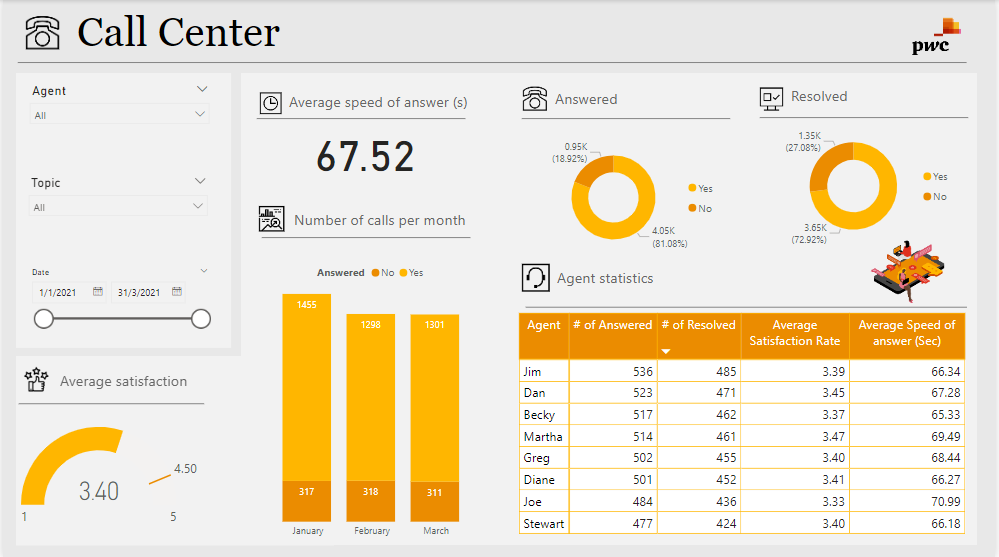

Layout of this report page (visuals, bound fields, positions):
{"tool":"powerbi","page":{"name":"Page 1","canvas":[1280,720],"ordinal":0},"visuals":[{"type":"shape","box":[307.5,94.4,949.6,609.3],"z":2000},{"type":"shape","box":[17.2,459.1,410.5,244.6],"z":3000},{"type":"shape","box":[17,94.3,277.5,354.8],"z":4000},{"type":"donutChart","title":"Overall calls answered/abandoned","fields":{"Y":["Sheet1.Answered (Y/N)"],"Category":["Sheet1.CustomLegend"]},"box":[686.6,173.2,243.5,163.6],"z":5000},{"type":"gauge","title":"Average Satisfaction","fields":{"Y":["Call-Center-Dataset.Satisfaction rating"],"TargetValue":["Call-Center-Dataset.Target Value Satisfaction"],"MinValue":["Call-Center-Dataset.Satisfaction rating"],"MaxValue":["Sum(Call-Center-Dataset.Satisfaction rating)1"]},"box":[18.5,528.8,242.6,175],"z":6000},{"type":"columnChart","fields":{"Category":["Call-Center-Dataset.Date.Variation.Date Hierarchy.Month"],"Y":["Call-Center-Dataset.Call Id"],"Series":["Call-Center-Dataset.AnsweredLegend"]},"box":[323.2,331.8,307.5,371.8],"z":7000},{"type":"image","box":[18.3,468.7,49.7,41.9],"z":8000},{"type":"card","fields":{"Values":["Sheet1.Speed of answer in seconds"]},"box":[377.6,157.3,177.3,74.4],"z":9000},{"type":"pivotTable","fields":{"Rows":["Call-Center-Dataset.Agent"],"Values":["Call-Center-Dataset.# of Answered","Call-Center-Dataset.# of Resolved","Call-Center-Dataset.Satisfaction rating","Call-Center-Dataset.Speed of answer in seconds"]},"box":[660.7,399,619.3,320.4],"z":10000},{"type":"donutChart","title":"Overall calls answered/abandoned","fields":{"Y":["Call-Center-Dataset.Resolved"],"Category":["Call-Center-Dataset.ResolvedLegend"]},"box":[1002,148.3,230.4,183.3],"z":11000},{"type":"image","box":[325.2,247.8,43.2,68.1],"z":12000},{"type":"textbox","box":[90.3,5.2,912.4,74.6],"z":13000},{"type":"image","box":[24.1,7.7,53.1,68.5],"z":14000},{"type":"slicer","fields":{"Values":["Call-Center-Dataset.Date"]},"box":[24.6,339.5,252.4,94.9],"z":15000},{"type":"slicer","fields":{"Values":["Call-Center-Dataset.Agent"]},"box":[24.6,101.6,252.4,95],"z":16000},{"type":"basicShape","box":[9,61,1244.3,40.1],"z":16500},{"type":"slicer","fields":{"Values":["Call-Center-Dataset.Topic"]},"box":[23.5,220.6,251.3,94.9],"z":17000},{"type":"textbox","box":[68.1,473.9,188.5,36.7],"z":18000},{"type":"basicShape","box":[10.5,500.1,259.2,40.6],"z":19000},{"type":"textbox","box":[706.5,109.1,172,35.7],"z":20000},{"type":"textbox","box":[1011.5,106.4,183.2,35.7],"z":21000},{"type":"basicShape","box":[317.1,133.2,289.3,40.2],"z":22000},{"type":"textbox","box":[364.1,113,250.2,35.7],"z":23000},{"type":"basicShape","box":[967.1,131.8,289,40.2],"z":24000},{"type":"basicShape","box":[659.8,133,289,40.2],"z":25000},{"type":"image","box":[326.1,103,38,59.2],"z":26000},{"type":"image","box":[665.2,105.8,41.3,43.6],"z":27000},{"type":"image","box":[971.3,96.3,40.2,61.4],"z":28000},{"type":"textbox","box":[370.6,266.3,250.2,35.7],"z":29000},{"type":"basicShape","box":[323.7,286.4,289.3,40.2],"z":30000},{"type":"textbox","box":[709.7,340.3,250,36.7],"z":31000},{"type":"basicShape","box":[663.9,376.9,589.1,39.3],"z":32000},{"type":"image","box":[663.9,329.8,45.8,56.3],"z":33000},{"type":"image","box":[1076.1,251.3,195.1,187.2],"z":34000},{"type":"image","box":[1129,0,151,94.5],"z":35000}]}

Visuals, with their boxes in screenshot pixels (x1, y1, x2, y2), scaled from the page's 1280x720 canvas onto the 999x557 screenshot:
shape: <box>240,73,981,544</box>
shape: <box>13,355,334,544</box>
shape: <box>13,73,230,347</box>
"Overall calls answered/abandoned" donutChart: <box>536,134,726,261</box>
"Average Satisfaction" gauge: <box>14,409,204,544</box>
columnChart - Call-Center-Dataset.Date.Variation.Date Hierarchy.Month x Call-Center-Dataset.Call Id: <box>252,257,492,544</box>
image: <box>14,363,53,395</box>
card - Sheet1.Speed of answer in seconds: <box>295,122,433,179</box>
pivotTable - Call-Center-Dataset.Agent x Call-Center-Dataset.# of Answered: <box>516,309,998,556</box>
"Overall calls answered/abandoned" donutChart: <box>782,115,962,257</box>
image: <box>254,192,288,244</box>
textbox: <box>70,4,783,62</box>
image: <box>19,6,60,59</box>
slicer - Call-Center-Dataset.Date: <box>19,263,216,336</box>
slicer - Call-Center-Dataset.Agent: <box>19,79,216,152</box>
basicShape: <box>7,47,978,78</box>
slicer - Call-Center-Dataset.Topic: <box>18,171,214,244</box>
textbox: <box>53,367,200,395</box>
basicShape: <box>8,387,210,418</box>
textbox: <box>551,84,686,112</box>
textbox: <box>789,82,932,110</box>
basicShape: <box>247,103,473,134</box>
textbox: <box>284,87,479,115</box>
basicShape: <box>755,102,980,133</box>
basicShape: <box>515,103,741,134</box>
image: <box>255,80,284,125</box>
image: <box>519,82,551,116</box>
image: <box>758,74,789,122</box>
textbox: <box>289,206,485,234</box>
basicShape: <box>253,222,478,253</box>
textbox: <box>554,263,749,292</box>
basicShape: <box>518,292,978,322</box>
image: <box>518,255,554,299</box>
image: <box>840,194,992,339</box>
image: <box>881,0,998,73</box>
